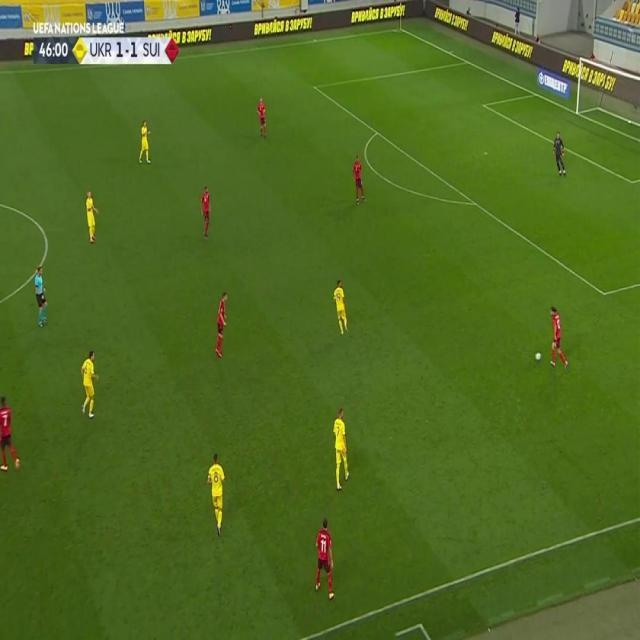ball: (535, 350, 542, 361)
goalkeeper: (551, 131, 567, 177)
player: (313, 518, 336, 601), (205, 451, 225, 537), (0, 394, 21, 472), (331, 406, 350, 491), (547, 305, 569, 370), (81, 349, 100, 418), (213, 290, 230, 358), (332, 278, 349, 336), (351, 155, 367, 205), (85, 188, 99, 243), (138, 119, 153, 165), (200, 185, 212, 240), (256, 95, 268, 139)
referee: (34, 268, 48, 327)
